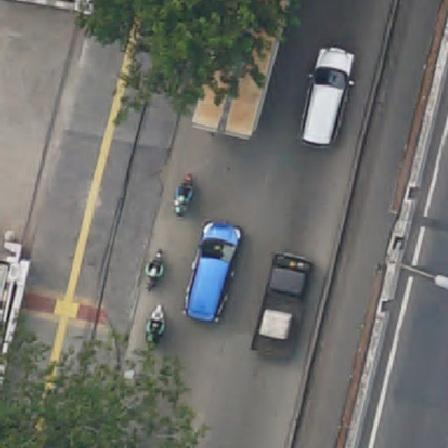Car: (252, 256, 314, 360), (184, 223, 245, 321), (303, 46, 359, 148)
Motorcycle: (172, 173, 195, 214), (143, 250, 166, 291), (146, 305, 168, 343)
